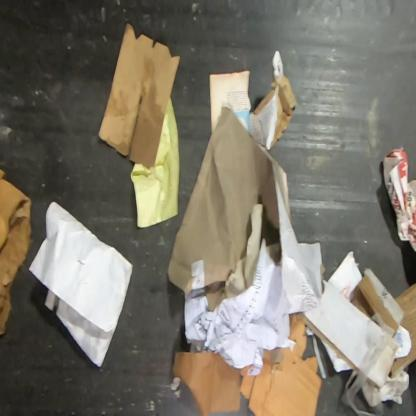cardboard: (166, 106, 327, 314), (97, 21, 180, 170), (239, 311, 324, 415), (350, 267, 415, 379), (305, 278, 382, 369), (0, 164, 34, 338), (252, 74, 298, 152)
soft_plastic: (339, 310, 396, 415)
